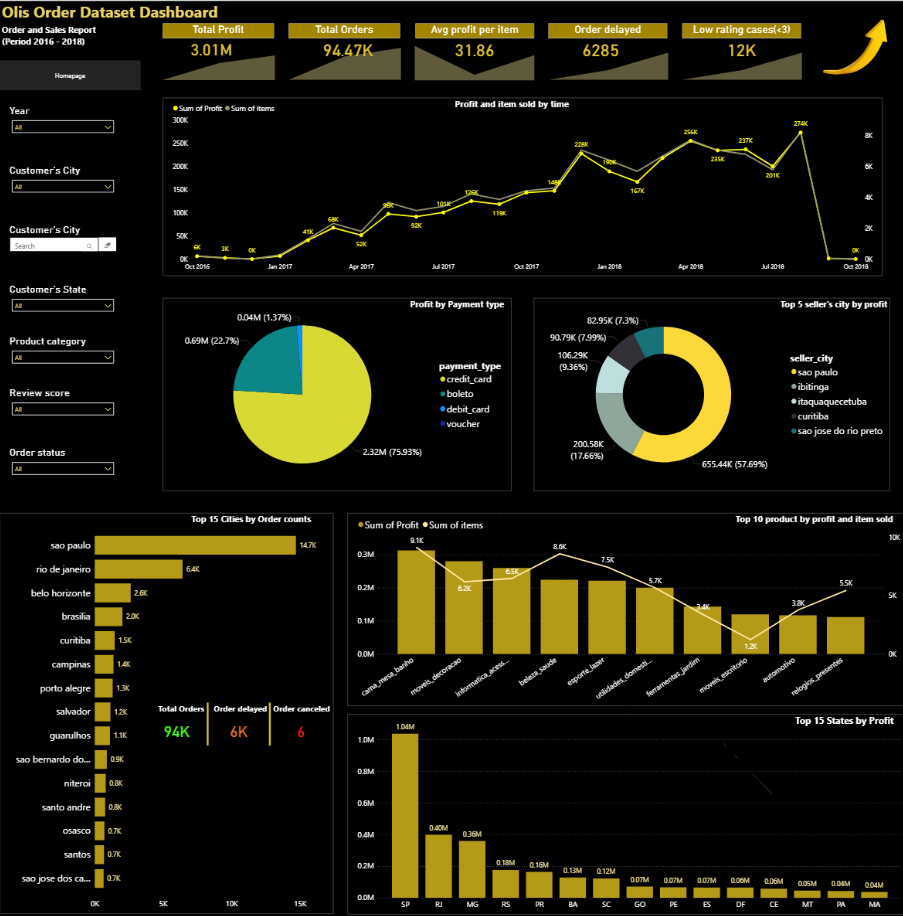

Layout of this report page (visuals, bound fields, positions):
{"tool":"powerbi","page":{"name":"Homepage","canvas":[1950,2000],"ordinal":0},"visuals":[{"type":"textbox","title":"Total Profit","box":[352,48,240,32],"z":0},{"type":"card","fields":{"Values":["Sum(Olis_Order_Dataset(EDA).Profit)"]},"box":[336,80,240,48],"z":1000},{"type":"areaChart","fields":{"Category":["Olis_Order_Dataset(EDA).delivered_customer_date.Variation.Date Hierarchy.Year","Olis_Order_Dataset(EDA).delivered_customer_date.Variation.Date Hierarchy.Quarter","Olis_Order_Dataset(EDA).delivered_customer_date.Variation.Date Hierarchy.Month","Olis_Order_Dataset(EDA).delivered_customer_date.Variation.Date Hierarchy.Day"],"Y":["Sum(Olis_Order_Dataset(EDA).Profit)"]},"box":[336,96,272,80],"z":2000},{"type":"textbox","title":"Total Orders","box":[624,48,240,32],"z":3000},{"type":"areaChart","fields":{"Category":["Olis_Order_Dataset(EDA).delivered_customer_date.Variation.Date Hierarchy.Year","Olis_Order_Dataset(EDA).delivered_customer_date.Variation.Date Hierarchy.Quarter","Olis_Order_Dataset(EDA).delivered_customer_date.Variation.Date Hierarchy.Month","Olis_Order_Dataset(EDA).delivered_customer_date.Variation.Date Hierarchy.Day"],"Y":["CountNonNull(Olis_Order_Dataset(EDA).order_id)"]},"box":[608,80,272,96],"z":4000},{"type":"card","fields":{"Values":["CountNonNull(Olis_Order_Dataset(EDA).order_id)"]},"box":[624,80,256,48],"z":5000},{"type":"textbox","title":"Avg profit per item","box":[896,48,256,32],"z":6000},{"type":"card","fields":{"Values":["Avg(Olis_Order_Dataset(EDA).Profit)"]},"box":[880,80,288,48],"z":7000},{"type":"areaChart","fields":{"Category":["Olis_Order_Dataset(EDA).delivered_customer_date.Variation.Date Hierarchy.Year","Olis_Order_Dataset(EDA).delivered_customer_date.Variation.Date Hierarchy.Quarter","Olis_Order_Dataset(EDA).delivered_customer_date.Variation.Date Hierarchy.Month","Olis_Order_Dataset(EDA).delivered_customer_date.Variation.Date Hierarchy.Day"],"Y":["Avg(Olis_Order_Dataset(EDA).Profit)"]},"box":[880,80,288,96],"z":8000},{"type":"textbox","title":"Order delayed","box":[1184,48,256,32],"z":9000},{"type":"card","fields":{"Values":["Olis_Order_Dataset(EDA).order_delayed"]},"box":[1168,80,256,48],"z":10000},{"type":"areaChart","fields":{"Category":["Olis_Order_Dataset(EDA).delivered_customer_date.Variation.Date Hierarchy.Year","Olis_Order_Dataset(EDA).delivered_customer_date.Variation.Date Hierarchy.Quarter","Olis_Order_Dataset(EDA).delivered_customer_date.Variation.Date Hierarchy.Month","Olis_Order_Dataset(EDA).delivered_customer_date.Variation.Date Hierarchy.Day"],"Y":["Olis_Order_Dataset(EDA).order_delayed"]},"box":[1168,80,288,96],"z":11000},{"type":"textbox","title":"Low rating cases(<3)","box":[1472,48,256,32],"z":12000},{"type":"areaChart","fields":{"Category":["Olis_Order_Dataset(EDA).delivered_customer_date.Variation.Date Hierarchy.Year","Olis_Order_Dataset(EDA).delivered_customer_date.Variation.Date Hierarchy.Quarter","Olis_Order_Dataset(EDA).delivered_customer_date.Variation.Date Hierarchy.Month","Olis_Order_Dataset(EDA).delivered_customer_date.Variation.Date Hierarchy.Day"],"Y":["Olis_Order_Dataset(EDA).order_delayed"]},"box":[1456,80,288,96],"z":13000},{"type":"card","fields":{"Values":["Olis_Order_Dataset(EDA).Bad rating cases count"]},"box":[1472,80,256,48],"z":14000},{"type":"textbox","title":"Olis Order Dataset Dashboard","box":[0,0,608,48],"z":15000},{"type":"textbox","title":"Order and Sales Report (Period 2016 - 2018)","box":[0,48,256,48],"z":16000},{"type":"slicer","title":"Year","fields":{"Values":["Olis_Order_Dataset(EDA).delivered_carrier_date.Variation.Date Hierarchy.Year"]},"box":[16,224,240,80],"z":17000},{"type":"slicer","title":"Customer''s City","fields":{"Values":["Olis_Order_Dataset(EDA).customer_city"]},"box":[16,352,240,64],"z":18000},{"type":"textFilter25A4896A83E0487089E2B90C9AE57C8A","title":"Customer''s City","fields":{"field":["Olis_Order_Dataset(EDA).customer_city"]},"box":[16,480,240,64],"z":19000},{"type":"slicer","title":"Customer''s State","fields":{"Values":["Olis_Order_Dataset(EDA).customer_state"]},"box":[16,608,240,64],"z":20000},{"type":"slicer","title":"Review score","fields":{"Values":["Olis_Order_Dataset(EDA).review_score"]},"box":[16,832,240,80],"z":22000},{"type":"slicer","title":"Product category","fields":{"Values":["Olis_Order_Dataset(EDA).product_category_name"]},"box":[16,720,240,80],"z":23000},{"type":"slicer","title":"Order status","fields":{"Values":["Olis_Order_Dataset(EDA).order_status"]},"box":[16,960,240,96],"z":24000},{"type":"columnChart","fields":{"Category":["Olis_Order_Dataset(EDA).customer_state"],"Y":["Sum(Olis_Order_Dataset(EDA).Profit)"]},"box":[750,1536,1200,432],"z":25000},{"type":"textbox","title":"Top 15 States by Profit","box":[1710,1536,240,32],"z":26000},{"type":"lineChart","fields":{"Category":["Olis_Order_Dataset(EDA).delivered_customer_date.Variation.Date Hierarchy.Year","Olis_Order_Dataset(EDA).delivered_customer_date.Variation.Date Hierarchy.Quarter","Olis_Order_Dataset(EDA).delivered_customer_date.Variation.Date Hierarchy.Month"],"Y":["Sum(Olis_Order_Dataset(EDA).Profit)"],"Y2":["Sum(Olis_Order_Dataset(EDA).items)"]},"box":[352,208,1552,384],"z":27000},{"type":"textbox","title":"Profit and item sold by time","box":[976,208,288,32],"z":28000},{"type":"pieChart","fields":{"Y":["Sum(Olis_Order_Dataset(EDA).Profit)"],"Category":["Olis_Order_Dataset(EDA).payment_type"]},"box":[352,640,752,416],"z":29000},{"type":"textbox","title":"Profit by Payment type","box":[880,640,224,32],"z":30000},{"type":"pageNavigator","box":[0,128,304,64],"z":31000},{"type":"clusteredBarChart","fields":{"Category":["Olis_Order_Dataset(EDA).customer_city"],"Y":["CountNonNull(Olis_Order_Dataset(EDA).order_id)"]},"box":[0,1104,720,864],"z":31001},{"type":"textbox","title":"Top 15 Cities by Order counts","box":[408,1104,336,24],"z":31004},{"type":"cardVisual","fields":{"Data":["CountNonNull(Olis_Order_Dataset(EDA).order_id)","Olis_Order_Dataset(EDA).order_delayed","Olis_Order_Dataset(EDA).Order_Canceled"]},"box":[312,1512,408,96],"z":31006},{"type":"textbox","title":"Total Orders","box":[336,1512,120,24],"z":31007},{"type":"textbox","title":"Order delayed","box":[456,1512,144,24],"z":31008},{"type":"textbox","title":"Order canceled","box":[585,1512,144,32],"z":31009},{"type":"donutChart","fields":{"Category":["Olis_Order_Dataset(EDA).seller_city"],"Y":["Sum(Olis_Order_Dataset(EDA).Profit)"]},"box":[1152,640,768,416],"z":31010},{"type":"textbox","title":"Top 5 seller''s city by profit","box":[1678,640,272,32],"z":31011},{"type":"lineClusteredColumnComboChart","fields":{"Category":["Olis_Order_Dataset(EDA).product_category_name"],"Y":["Sum(Olis_Order_Dataset(EDA).Profit)"],"Y2":["Sum(Olis_Order_Dataset(EDA).items)"]},"box":[750,1104,1200,416],"z":31012},{"type":"textbox","title":"Top 10 product by profit and item sold","box":[1582,1104,368,32],"z":31013},{"type":"image","box":[1744,26,206,150],"z":31014}]}

Visuals, with their boxes in screenshot pixels (x1, y1, x2, y2), scaled from the page's 1950x2000 canvas onto the 903x916 screenshot:
"Total Profit" textbox: [left=163, top=22, right=274, bottom=37]
card - Sum(Olis_Order_Dataset(EDA).Profit): [left=156, top=37, right=267, bottom=59]
areaChart - Olis_Order_Dataset(EDA).delivered_customer_date.Variation.Date Hierarchy.Year x Olis_Order_Dataset(EDA).delivered_customer_date.Variation.Date Hierarchy.Quarter: [left=156, top=44, right=282, bottom=81]
"Total Orders" textbox: [left=289, top=22, right=400, bottom=37]
areaChart - Olis_Order_Dataset(EDA).delivered_customer_date.Variation.Date Hierarchy.Year x Olis_Order_Dataset(EDA).delivered_customer_date.Variation.Date Hierarchy.Quarter: [left=282, top=37, right=408, bottom=81]
card - CountNonNull(Olis_Order_Dataset(EDA).order_id): [left=289, top=37, right=408, bottom=59]
"Avg profit per item" textbox: [left=415, top=22, right=533, bottom=37]
card - Avg(Olis_Order_Dataset(EDA).Profit): [left=408, top=37, right=541, bottom=59]
areaChart - Olis_Order_Dataset(EDA).delivered_customer_date.Variation.Date Hierarchy.Year x Olis_Order_Dataset(EDA).delivered_customer_date.Variation.Date Hierarchy.Quarter: [left=408, top=37, right=541, bottom=81]
"Order delayed" textbox: [left=548, top=22, right=667, bottom=37]
card - Olis_Order_Dataset(EDA).order_delayed: [left=541, top=37, right=659, bottom=59]
areaChart - Olis_Order_Dataset(EDA).delivered_customer_date.Variation.Date Hierarchy.Year x Olis_Order_Dataset(EDA).delivered_customer_date.Variation.Date Hierarchy.Quarter: [left=541, top=37, right=674, bottom=81]
"Low rating cases(<3)" textbox: [left=682, top=22, right=800, bottom=37]
areaChart - Olis_Order_Dataset(EDA).delivered_customer_date.Variation.Date Hierarchy.Year x Olis_Order_Dataset(EDA).delivered_customer_date.Variation.Date Hierarchy.Quarter: [left=674, top=37, right=808, bottom=81]
card - Olis_Order_Dataset(EDA).Bad rating cases count: [left=682, top=37, right=800, bottom=59]
"Olis Order Dataset Dashboard" textbox: [left=0, top=0, right=282, bottom=22]
"Order and Sales Report (Period 2016 - 2018)" textbox: [left=0, top=22, right=119, bottom=44]
"Year" slicer: [left=7, top=103, right=119, bottom=139]
"Customer''s City" slicer: [left=7, top=161, right=119, bottom=191]
"Customer''s City" textFilter25A4896A83E0487089E2B90C9AE57C8A: [left=7, top=220, right=119, bottom=249]
"Customer''s State" slicer: [left=7, top=278, right=119, bottom=308]
"Review score" slicer: [left=7, top=381, right=119, bottom=418]
"Product category" slicer: [left=7, top=330, right=119, bottom=366]
"Order status" slicer: [left=7, top=440, right=119, bottom=484]
columnChart - Olis_Order_Dataset(EDA).customer_state x Sum(Olis_Order_Dataset(EDA).Profit): [left=347, top=703, right=902, bottom=901]
"Top 15 States by Profit" textbox: [left=792, top=703, right=902, bottom=718]
lineChart - Olis_Order_Dataset(EDA).delivered_customer_date.Variation.Date Hierarchy.Year x Olis_Order_Dataset(EDA).delivered_customer_date.Variation.Date Hierarchy.Quarter: [left=163, top=95, right=882, bottom=271]
"Profit and item sold by time" textbox: [left=452, top=95, right=585, bottom=110]
pieChart - Sum(Olis_Order_Dataset(EDA).Profit) x Olis_Order_Dataset(EDA).payment_type: [left=163, top=293, right=511, bottom=484]
"Profit by Payment type" textbox: [left=408, top=293, right=511, bottom=308]
pageNavigator: [left=0, top=59, right=141, bottom=88]
clusteredBarChart - Olis_Order_Dataset(EDA).customer_city x CountNonNull(Olis_Order_Dataset(EDA).order_id): [left=0, top=506, right=333, bottom=901]
"Top 15 Cities by Order counts" textbox: [left=189, top=506, right=345, bottom=517]
cardVisual - CountNonNull(Olis_Order_Dataset(EDA).order_id) x Olis_Order_Dataset(EDA).order_delayed: [left=144, top=692, right=333, bottom=736]
"Total Orders" textbox: [left=156, top=692, right=211, bottom=703]
"Order delayed" textbox: [left=211, top=692, right=278, bottom=703]
"Order canceled" textbox: [left=271, top=692, right=338, bottom=707]
donutChart - Olis_Order_Dataset(EDA).seller_city x Sum(Olis_Order_Dataset(EDA).Profit): [left=533, top=293, right=889, bottom=484]
"Top 5 seller''s city by profit" textbox: [left=777, top=293, right=902, bottom=308]
lineClusteredColumnComboChart - Olis_Order_Dataset(EDA).product_category_name x Sum(Olis_Order_Dataset(EDA).Profit): [left=347, top=506, right=902, bottom=696]
"Top 10 product by profit and item sold" textbox: [left=733, top=506, right=902, bottom=520]
image: [left=808, top=12, right=902, bottom=81]
